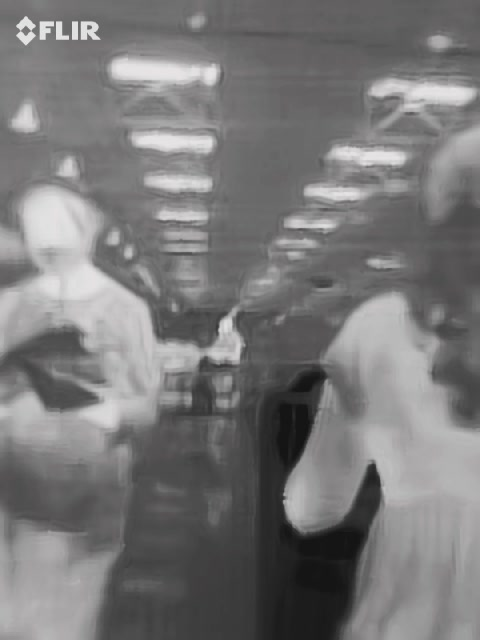head: (15, 181, 100, 274)
